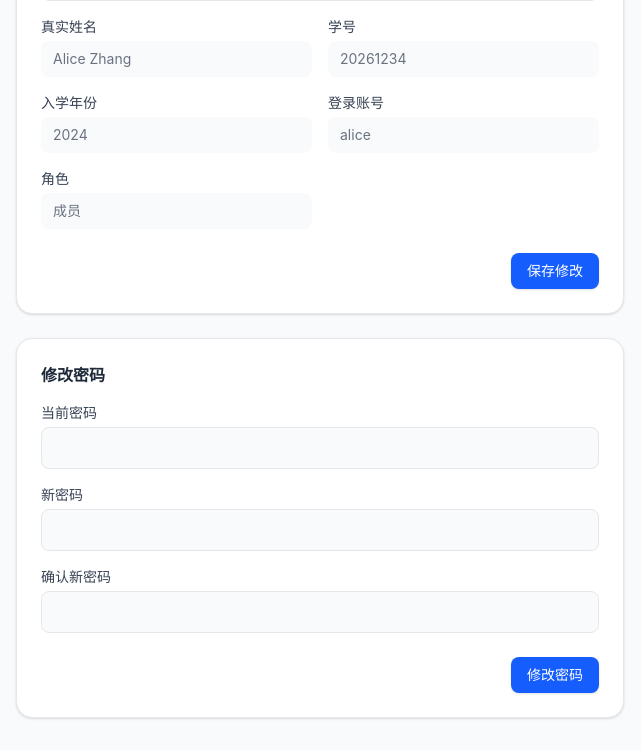
ProfilePage › blocks password submit when confirmation mismatches
(page scrolled)
In the password field labelled "当前密码": point(320, 448) [41,427,599,469], type "old-password"
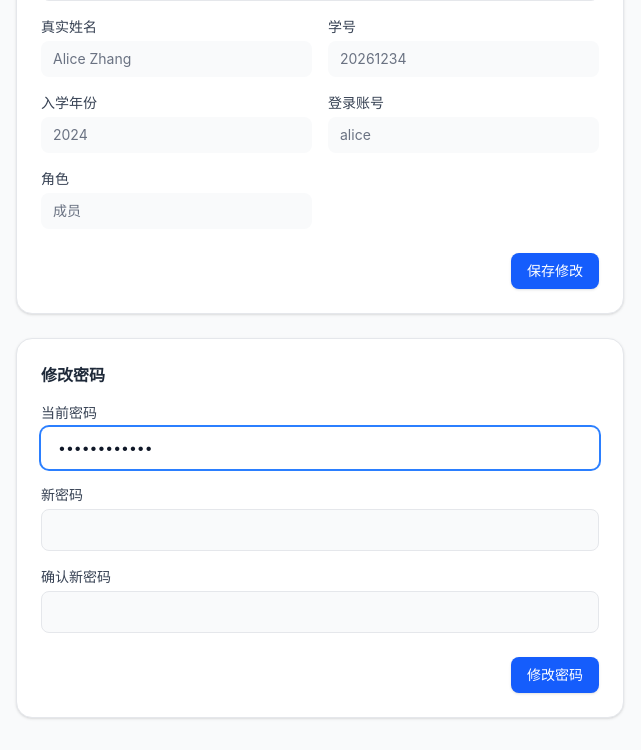
In the password field labelled "新密码": point(320, 530) [41,509,599,551], type "new-password"
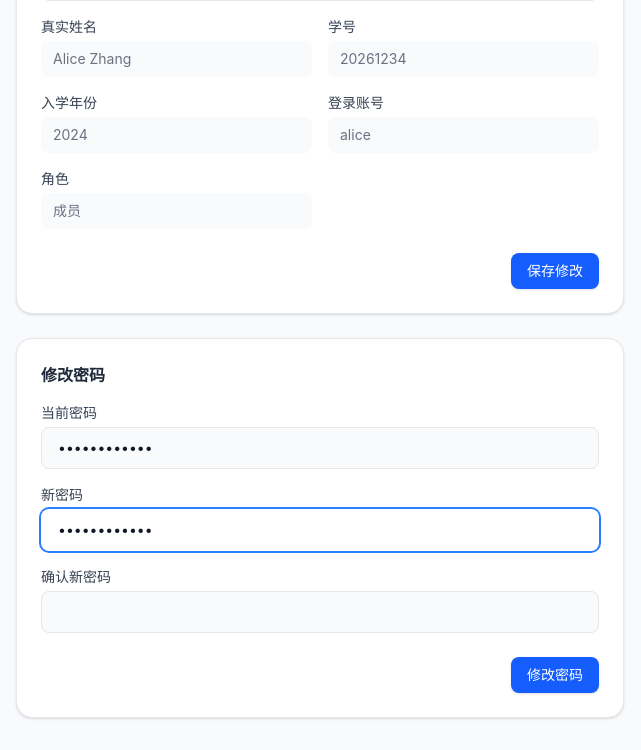
In the password field labelled "确认新密码": point(320, 612) [41,591,599,633], type "new-password-2"
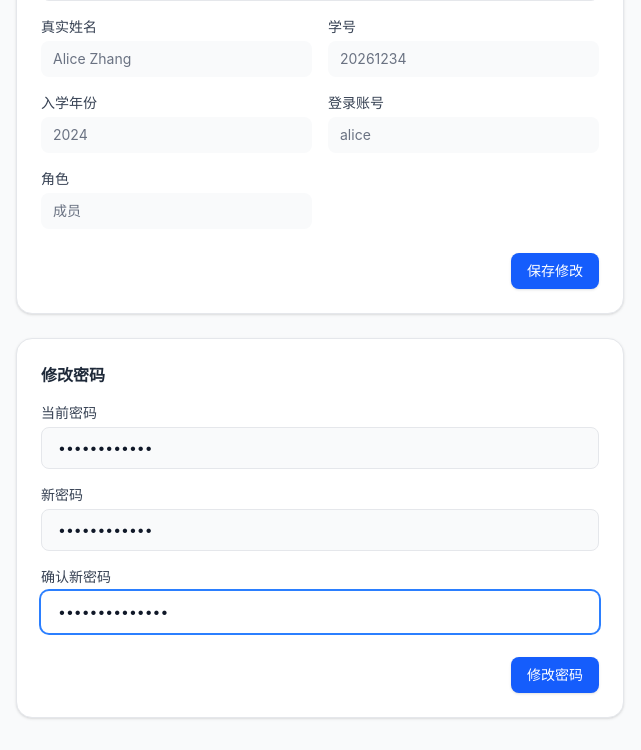
Click the button "修改密码": point(555, 675) [511,657,599,693]
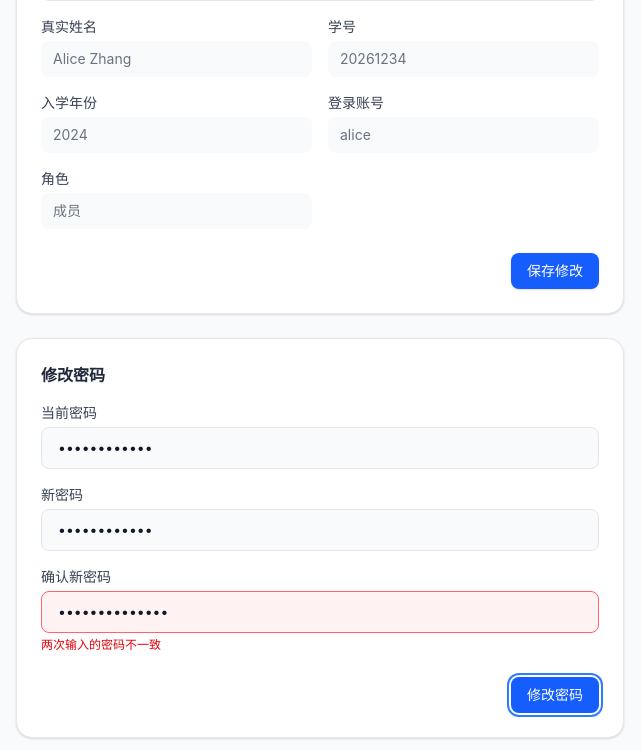
Now the text "两次输入的密码不一致" is shown, box [41,637,161,652]
